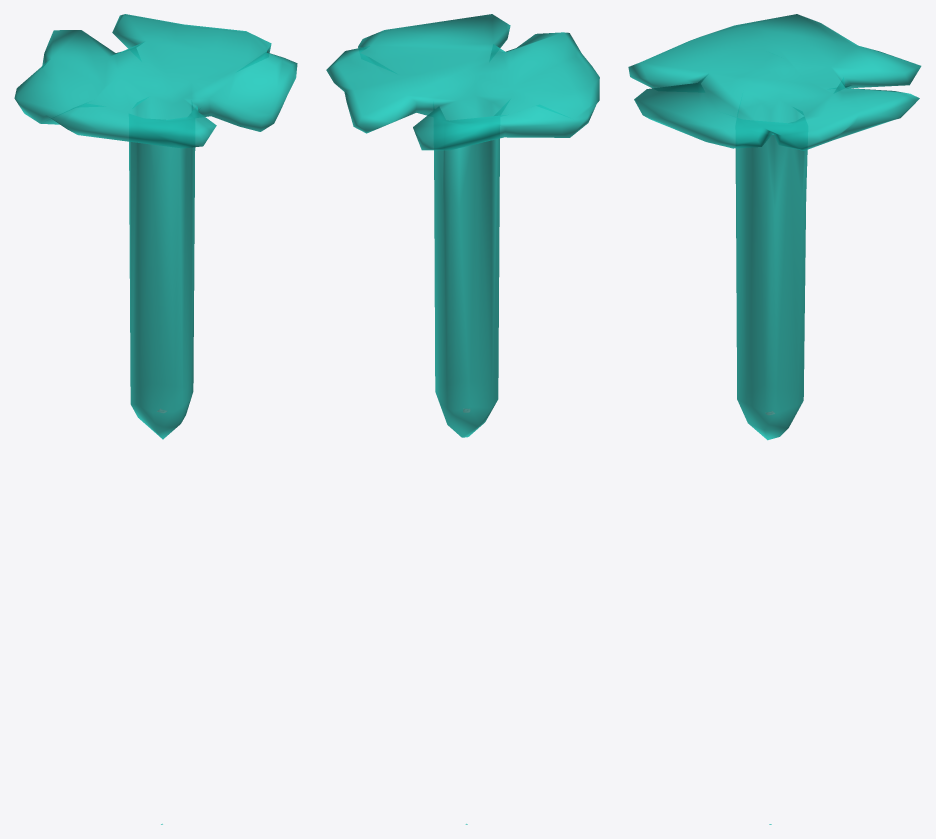
The picture shows the model from 3 angles, left to right: view 1: azimuth 30°, elevation 25°; view 2: azimuth 150°, elevation 25°; view 3: azimuth 270°, elevation 25°; orthographic projection.
Parts seen in each view (by area): view 1: Liquid_Domain; view 2: Liquid_Domain; view 3: Liquid_Domain.
Part boxes in pixels (x1,y1,x2,y2): Liquid_Domain: (14, 14, 297, 439); Liquid_Domain: (326, 14, 599, 437); Liquid_Domain: (628, 14, 921, 440).
Size of the model in its own units: 537 by 1517 by 540.
